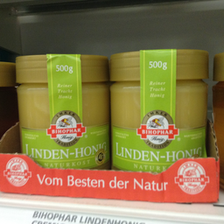honey: (112, 49, 211, 179), (14, 54, 111, 179)
